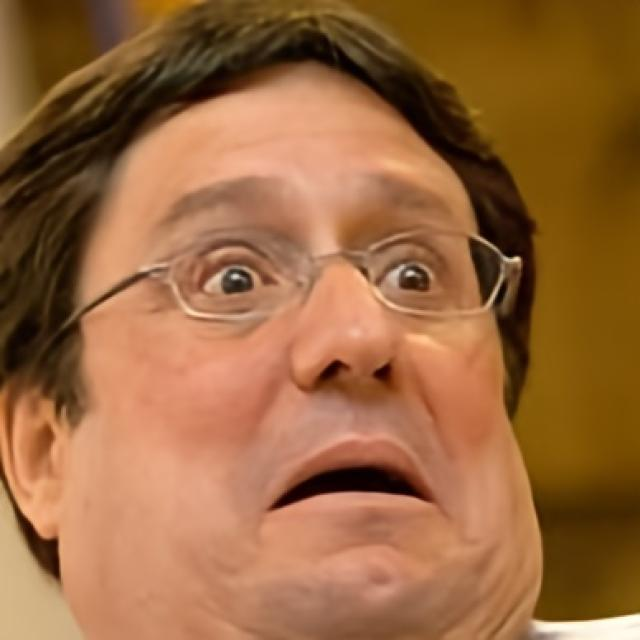Fear: (60, 50, 542, 640)
